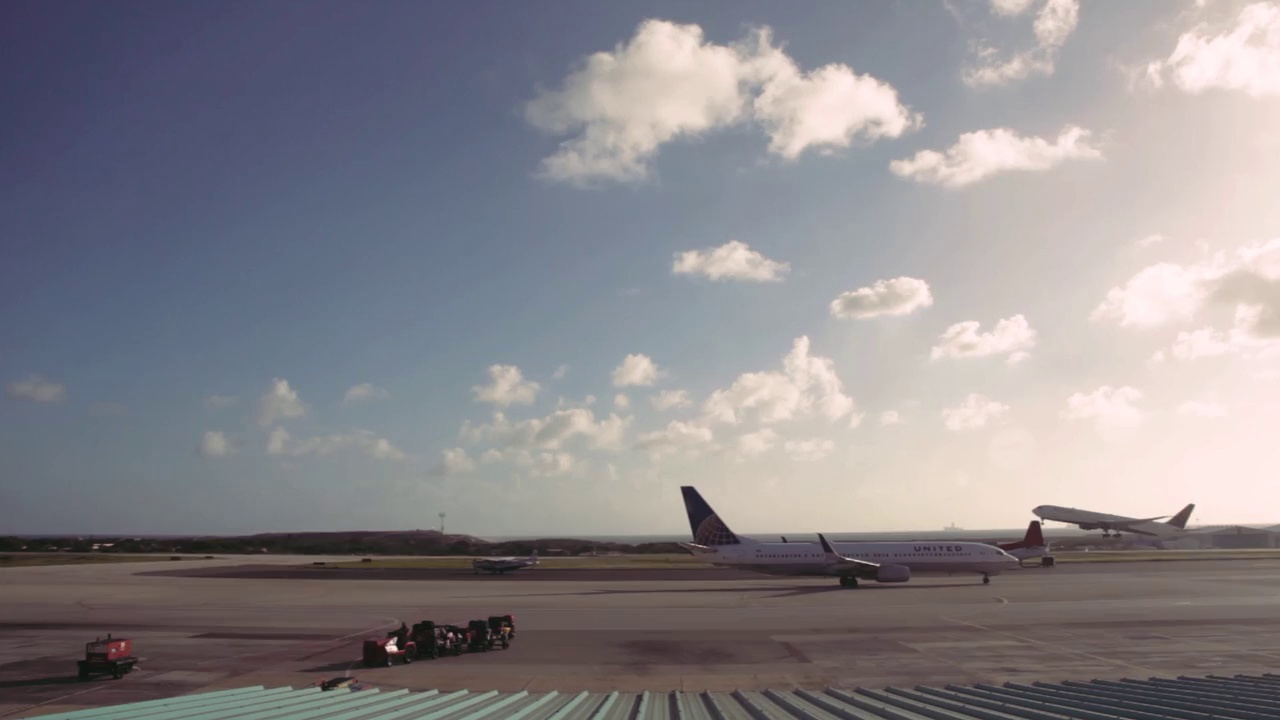plane: (668, 483, 1022, 587), (1032, 501, 1196, 545), (468, 549, 540, 575)
